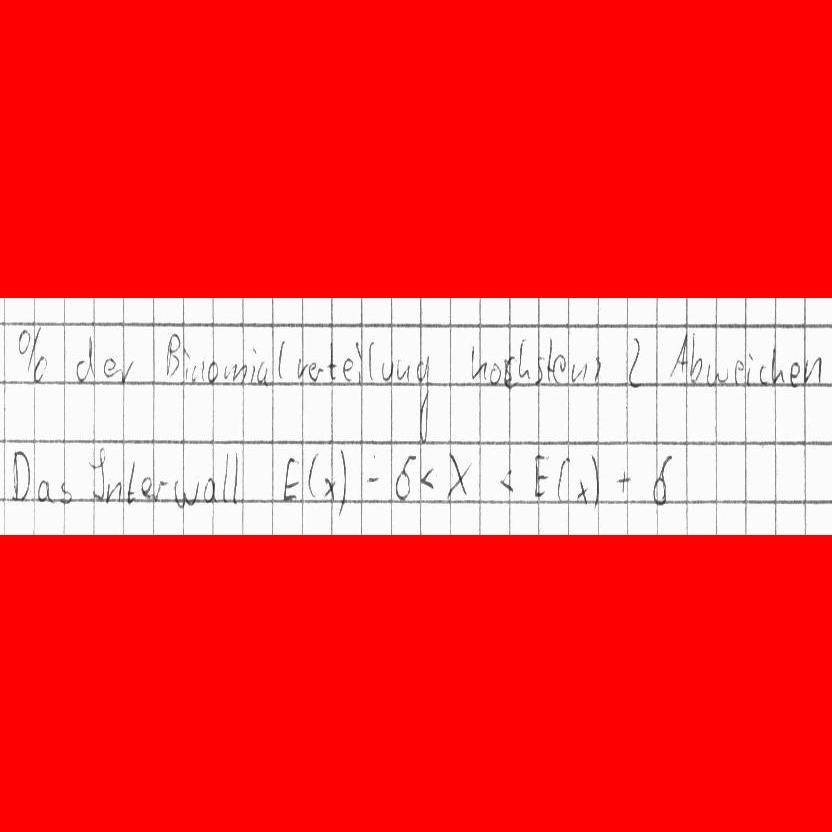Char: (16, 322, 52, 386), (415, 354, 430, 446), (444, 452, 474, 498), (72, 334, 98, 385), (280, 454, 305, 503), (11, 448, 33, 503), (650, 454, 673, 505), (531, 450, 554, 500), (87, 445, 106, 501), (625, 336, 644, 391), (395, 454, 416, 499), (669, 332, 688, 379), (174, 477, 201, 510), (162, 332, 181, 378), (588, 452, 601, 510), (469, 342, 487, 382), (770, 347, 787, 387), (221, 360, 247, 386), (338, 448, 348, 515), (689, 330, 701, 385), (704, 362, 731, 386), (516, 337, 531, 380), (557, 456, 571, 502), (114, 357, 138, 382), (502, 353, 519, 388), (308, 451, 320, 499), (495, 468, 518, 492), (551, 353, 568, 384), (804, 356, 822, 385), (326, 340, 339, 380), (35, 478, 55, 504), (276, 338, 288, 381), (202, 476, 220, 504), (231, 451, 240, 505), (221, 450, 230, 503), (152, 477, 170, 503), (617, 468, 635, 494), (125, 458, 135, 504), (105, 480, 123, 505), (419, 467, 438, 490), (355, 339, 364, 386), (570, 361, 589, 383), (365, 339, 375, 380), (732, 357, 745, 388), (395, 357, 411, 382), (58, 479, 73, 505), (322, 475, 337, 501), (593, 355, 606, 384), (205, 359, 220, 384), (575, 478, 589, 504), (533, 355, 544, 387), (255, 359, 268, 386), (102, 354, 116, 379), (191, 358, 205, 383), (546, 336, 553, 385), (746, 351, 755, 389), (488, 362, 502, 386), (342, 356, 355, 381), (295, 356, 308, 380), (789, 360, 800, 388), (380, 358, 393, 381), (182, 345, 190, 381), (757, 363, 769, 387), (140, 475, 152, 499), (249, 347, 256, 386), (305, 358, 317, 380), (314, 364, 325, 381), (366, 473, 381, 485)
